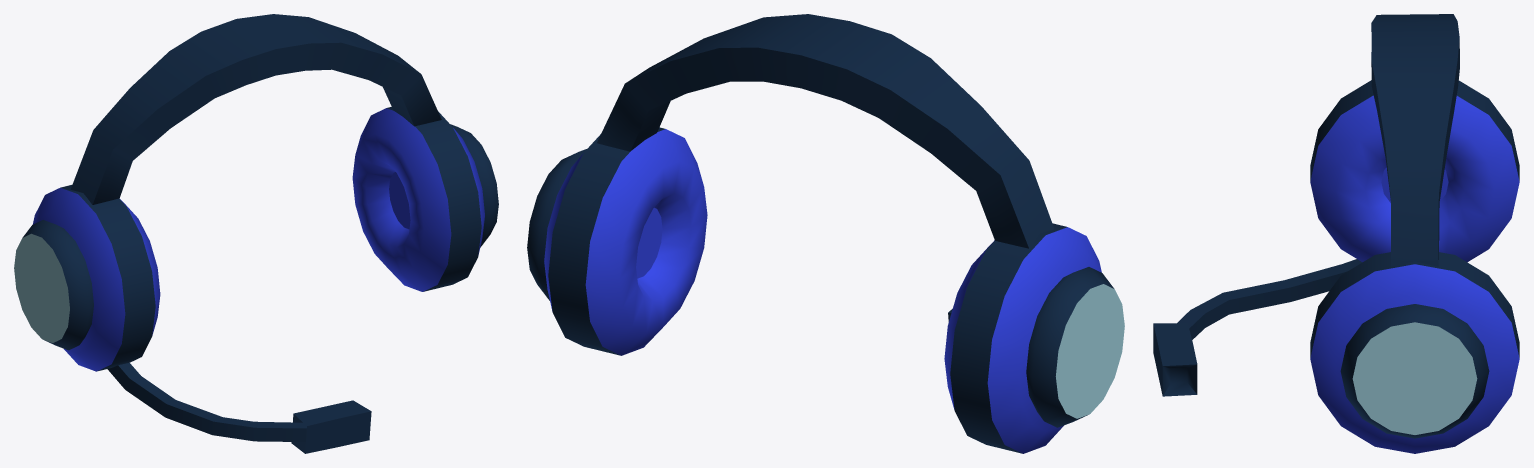
File: Headphones_01.fbx
The picture shows the model from 3 angles, left to right: view 1: azimuth 30°, elevation 25°; view 2: azimuth 150°, elevation 25°; view 3: azimuth 270°, elevation 25°; orthographic projection. The views are drawn at different scales.
Visible parts, largest first — view 1: Headphones_01; view 2: Headphones_01; view 3: Headphones_01.
Boxes of the visible parts, bbox=[...] form: Headphones_01: bbox=[14, 14, 498, 453]; Headphones_01: bbox=[527, 14, 1124, 453]; Headphones_01: bbox=[1153, 14, 1519, 453].
Bounding box in the file's own units: 0.8397 × 0.6053 × 0.5588.
